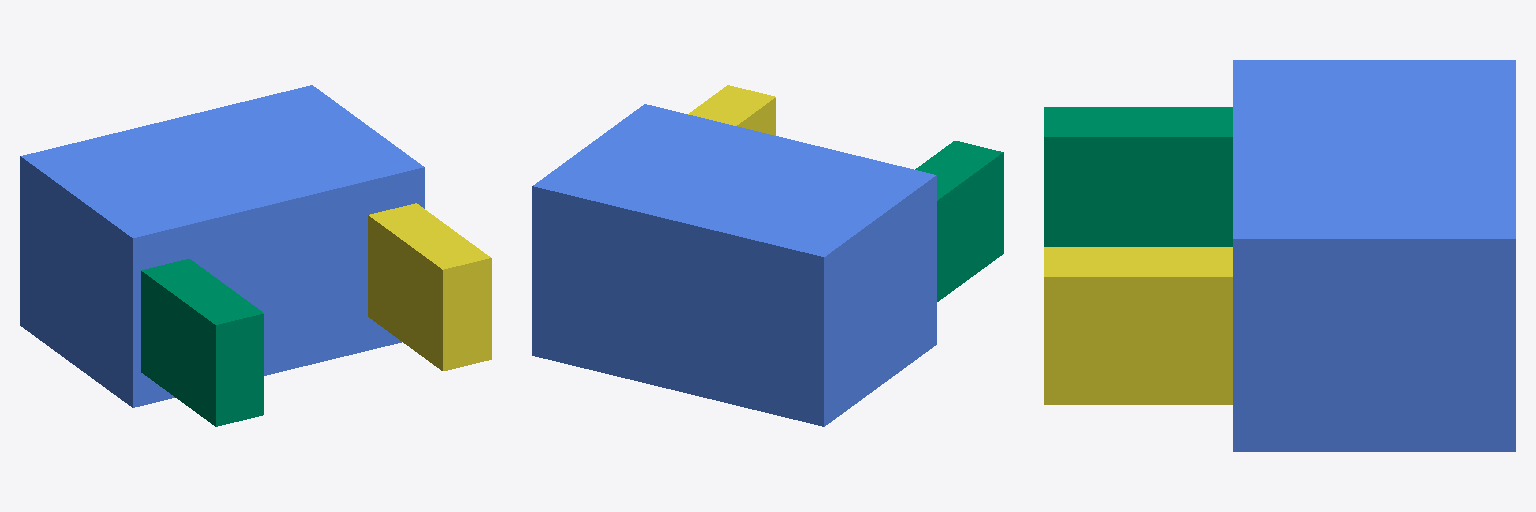
URDF robot description (ur5):
<?xml version="1.0" ?>
<!-- ============================================================================================= -->
<!-- |    This document was autogenerated by xacro from ur_description/urdf/ur5_robot.urdf.xacro | -->
<!-- |    EDITING THIS FILE BY HAND IS NOT RECOMMENDED                                           | -->
<!-- ============================================================================================= -->
<robot name="ur5" xmlns:xacro="http://ros.org/wiki/xacro">
  <material name="LightGrey">
    <color rgba="0.8 0.8 0.8 1.0"/>
  </material>

  <material name="LightBlue">
    <color rgba="0.4 0.6 1 1.0"/>
  </material>

  <material name="DarkGrey">
    <color rgba="0.2 0.2 0.2 1.0"/>
  </material>

  <link name="base_link">
    <visual>
      <geometry>
        <mesh filename="visual/base.dae"/>
      </geometry>
      <!-- <material name="LightGrey"/> -->
    </visual>
    <collision>
      <geometry>
      	<mesh filename="collision/base.stl"/>
      </geometry>
    </collision>
    <inertial>
      <mass value="4.0"/>
      <origin rpy="0 0 0" xyz="0.0 0.0 0.0"/>
      <inertia ixx="0.00443333156" ixy="0.0" ixz="0.0" iyy="0.00443333156" iyz="0.0" izz="0.0072"/>
    </inertial>
  </link>
  <joint name="shoulder_pan_joint" type="revolute">
    <parent link="base_link"/>
    <child link="shoulder_link"/>
    <origin rpy="0.0 0.0 0.0" xyz="0.0 0.0 0.089159"/>
    <axis xyz="0 0 1"/>
    <limit effort="150.0" lower="-6.28318530718" upper="6.28318530718" velocity="3.15"/>
    <dynamics damping="0.0" friction="0.0"/>
  </joint>
  <link name="shoulder_link">
    <visual>
      <geometry>
        <mesh filename="visual/shoulder.dae"/>
      </geometry>
      <!-- <material name="DarkGrey"/> -->
    </visual>
    <collision>
      <geometry>
        <mesh filename="collision/shoulder.stl"/>
      </geometry>
    </collision>
    <inertial>
      <mass value="3.7"/>
      <origin rpy="0 0 0" xyz="0.0 0.0 0.0"/>
      <inertia ixx="0.010267495893" ixy="0.0" ixz="0.0" iyy="0.010267495893" iyz="0.0" izz="0.00666"/>
    </inertial>
  </link>
  <joint name="shoulder_lift_joint" type="revolute">
    <parent link="shoulder_link"/>
    <child link="upper_arm_link"/>
    <origin rpy="0.0 1.57079632679 0.0" xyz="0.0 0.13585 0.0"/>
    <axis xyz="0 1 0"/>
    <limit effort="150.0" lower="-6.28318530718" upper="6.28318530718" velocity="3.15"/>
    <dynamics damping="0.0" friction="0.0"/>
  </joint>
  <link name="upper_arm_link">
    <visual>
      <geometry>
        <mesh filename="visual/upperarm.dae"/>
      </geometry>
      <!-- <material name="LightGrey"/> -->
    </visual>
    <collision>
      <geometry>
        <mesh filename="collision/upperarm.stl"/>
      </geometry>
    </collision>
    <inertial>
      <mass value="8.393"/>
      <origin rpy="0 0 0" xyz="0.0 0.0 0.28"/>
      <inertia ixx="0.22689067591" ixy="0.0" ixz="0.0" iyy="0.22689067591" iyz="0.0" izz="0.0151074"/>
    </inertial>
  </link>
  <joint name="elbow_joint" type="revolute">
    <parent link="upper_arm_link"/>
    <child link="forearm_link"/>
    <origin rpy="0.0 0.0 0.0" xyz="0.0 -0.1197 0.425"/>
    <axis xyz="0 1 0"/>
    <limit effort="150.0" lower="-3.14159265359" upper="3.14159265359" velocity="3.15"/>
    <dynamics damping="0.0" friction="0.0"/>
  </joint>
  <link name="forearm_link">
    <visual>
      <geometry>
        <mesh filename="visual/forearm.dae"/>
      </geometry>
      <!-- <material name="DarkGrey"/> -->
    </visual>
    <collision>
      <geometry>
        <mesh filename="collision/forearm.stl"/>
      </geometry>
    </collision>
    <inertial>
      <mass value="2.275"/>
      <origin rpy="0 0 0" xyz="0.0 0.0 0.25"/>
      <inertia ixx="0.049443313556" ixy="0.0" ixz="0.0" iyy="0.049443313556" iyz="0.0" izz="0.004095"/>
    </inertial>
  </link>
  <joint name="wrist_1_joint" type="revolute">
    <parent link="forearm_link"/>
    <child link="wrist_1_link"/>
    <origin rpy="0.0 1.57079632679 0.0" xyz="0.0 0.0 0.39225"/>
    <axis xyz="0 1 0"/>
    <limit effort="28.0" lower="-6.28318530718" upper="6.28318530718" velocity="3.2"/>
    <dynamics damping="0.0" friction="0.0"/>
  </joint>
  <link name="wrist_1_link">
    <visual>
      <geometry>
        <mesh filename="visual/wrist1.dae"/>
      </geometry>
      <!-- <material name="LightGrey"/> -->
    </visual>
    <collision>
      <geometry>
        <mesh filename="collision/wrist1.stl"/>
      </geometry>
    </collision>
    <inertial>
      <mass value="1.219"/>
      <origin rpy="0 0 0" xyz="0.0 0.0 0.0"/>
      <inertia ixx="0.111172755531" ixy="0.0" ixz="0.0" iyy="0.111172755531" iyz="0.0" izz="0.21942"/>
    </inertial>
  </link>
  <joint name="wrist_2_joint" type="revolute">
    <parent link="wrist_1_link"/>
    <child link="wrist_2_link"/>
    <origin rpy="0.0 0.0 0.0" xyz="0.0 0.093 0.0"/>
    <axis xyz="0 0 1"/>
    <limit effort="28.0" lower="-6.28318530718" upper="6.28318530718" velocity="3.2"/>
    <dynamics damping="0.0" friction="0.0"/>
  </joint>
  <link name="wrist_2_link">
    <visual>
      <geometry>
        <mesh filename="visual/wrist2.dae"/>
      </geometry>
      <!-- <material name="DarkGrey"/> -->
    </visual>
    <collision>
      <geometry>
        <mesh filename="collision/wrist2.stl"/>
      </geometry>
    </collision>
    <inertial>
      <mass value="1.219"/>
      <origin rpy="0 0 0" xyz="0.0 0.0 0.0"/>
      <inertia ixx="0.111172755531" ixy="0.0" ixz="0.0" iyy="0.111172755531" iyz="0.0" izz="0.21942"/>
    </inertial>
  </link>
  <joint name="wrist_3_joint" type="revolute">
    <parent link="wrist_2_link"/>
    <child link="wrist_3_link"/>
    <origin rpy="0.0 0.0 0.0" xyz="0.0 0.0 0.09465"/>
    <axis xyz="0 1 0"/>
    <limit effort="28.0" lower="-6.28318530718" upper="6.28318530718" velocity="3.2"/>
    <dynamics damping="0.0" friction="0.0"/>
  </joint>
  <link name="wrist_3_link">
    <visual>
      <geometry>
        <mesh filename="visual/wrist3.dae"/>
      </geometry>
      <!-- <material name="LightGrey"/> -->
    </visual>
    <collision>
      <geometry>
        <mesh filename="collision/wrist3.stl"/>
      </geometry>
    </collision>
    <inertial>
      <mass value="0.1879"/>
      <origin rpy="0 0 0" xyz="0.0 0.0 0.0"/>
      <inertia ixx="0.0171364731454" ixy="0.0" ixz="0.0" iyy="0.0171364731454" iyz="0.0" izz="0.033822"/>
    </inertial>
  </link>


  <!-- nothing to do here at the moment -->
  <!-- ROS base_link to UR 'Base' Coordinates transform -->
  <link name="base">
    <inertial>
      <mass value="0.0"/>
      <origin rpy="0 0 0" xyz="0.0 0.0 0.0"/>
      <inertia ixx="0.0" ixy="0.0" ixz="0.0" iyy="0.0" iyz="0.0" izz="0.0"/>
    </inertial>
  </link>
  <joint name="base_link-base_fixed_joint" type="fixed">
    <!-- NOTE: this rotation is only needed as long as base_link itself is
                 not corrected wrt the real robot (ie: rotated over 180
                 degrees)
      -->
    <origin rpy="0 0 -3.14159265359" xyz="0 0 0"/>
    <parent link="base_link"/>
    <child link="base"/>
  </joint>
  <!-- Frame coincident with all-zeros TCP on UR controller -->
  <link name="tool0">
    <inertial>
      <mass value="0.0"/>
      <origin rpy="0 0 0" xyz="0.0 0.0 0.0"/>
      <inertia ixx="0.0" ixy="0.0" ixz="0.0" iyy="0.0" iyz="0.0" izz="0.0"/>
    </inertial>
  </link>
  <joint name="wrist_3_link-tool0_fixed_joint" type="fixed">
    <origin rpy="-1.57079632679 0 0" xyz="0 0.0823 0"/>
    <parent link="wrist_3_link"/>
    <child link="tool0"/>
  </joint>

  <!-- gripper -->
  
  
  <link name="gripper_base">
    <inertial>
      <mass value="0.1879"/>
      <origin rpy="0 0 0" xyz="0.0 0.0 0.0"/>
      <inertia ixx="0.0" ixy="0.0" ixz="0.0" iyy="0.0" iyz="0.0" izz="0.0"/>
    </inertial>
    <visual>
      <geometry>
        <box size="0.09 0.05 0.06"/>
      </geometry>
      <origin rpy="0 0 0" xyz="0 0 0"/>
      <material name="LightBlue"/>
    </visual>
    <collision>
      <geometry>
        <box size="0.09 0.05 0.06"/>
      </geometry>
      <origin rpy="0 0 0" xyz="0 0 0"/>
    </collision>
  </link>
  <joint name="tool0-gb" type="fixed">
    <origin rpy="0 0 3.14159265359" xyz="0 0 0.03"/>
    <parent link="tool0"/>
    <child link="gripper_base"/>
  </joint>
  
  <link name="gripper_left">
    <inertial>
      <mass value="0.06"/>
      <origin rpy="0 0 0" xyz="0 0 0"/>
      <inertia ixx="0.0" ixy="0.0" ixz="0.0" iyy="0.0" iyz="0.0" izz="0.0"/>
    </inertial>
    <visual>
      <geometry>
        <box size="0.015 0.03 0.04"/>
      </geometry>
      <origin rpy="0 0 0" xyz="0 0 0"/>
      <!-- <material name="LightGray"/> -->
    </visual>
    <collision>
      <geometry>
        <box size="0.015 0.03 0.04"/>
      </geometry>
      <origin rpy="0 0 0" xyz="0 0 0"/>
    </collision>
  </link>
  <joint name="gb-gl" type="prismatic">
    <origin rpy="0 0 0" xyz="0.035 0.0 0.05"/>
    <axis xyz="-1 0 0"/>
    <limit effort="50.0" lower="0" upper="0.0275" velocity="0.01"/>
    <parent link="gripper_base"/>
    <child link="gripper_left"/>
  </joint>
  
  <link name="gripper_right">
    <inertial>
      <mass value="0.06"/>
      <origin rpy="0 0 0" xyz="0. 0.0 0.0"/>
      <inertia ixx="0.0" ixy="0.0" ixz="0.0" iyy="0.0" iyz="0.0" izz="0.0"/>
    </inertial>
    <visual>
      <geometry>
        <box size="0.015 0.03 0.04"/>
      </geometry>
      <origin rpy="0 0 0" xyz="0 0 0"/>
      <!-- <material name="LightGray"/> -->
    </visual>
    <collision>
      <geometry>
        <box size="0.015 0.03 0.04"/>
      </geometry>
      <origin rpy="0 0 0" xyz="0 0 0"/>
    </collision>
  </link>
  <joint name="gb-gr" type="prismatic">
    <origin rpy="0 0 0" xyz="-0.035 0.0 0.05"/>
    <limit effort="50.0" lower="0" upper="0.0275" velocity="0.01"/>
    <axis xyz="1 0 0"/>
    <parent link="gripper_base"/>
    <child link="gripper_right"/>
  </joint>
  
  
  <link name="gripper_center">
    <inertial>
      <mass value="0.0"/>
      <origin rpy="0 0 0" xyz="0. 0.0 0.0"/>
      <inertia ixx="0.0" ixy="0.0" ixz="0.0" iyy="0.0" iyz="0.0" izz="0.0"/>
    </inertial>
  </link>
  <joint name="gb-gc" type="fixed">
    <origin rpy="0 0 0" xyz="0 0.0 0.06"/>
    <parent link="gripper_base"/>
    <child link="gripper_center"/>
  </joint>
  
  
  
  

  <link name="world"/>
  <joint name="world_joint" type="fixed">
    <parent link="world"/>
    <child link="rotated_base_link"/>
    <origin rpy="0.0 0.0 0.0" xyz="0.0 0.0 0.0"/>
  </joint>

  <link name="rotated_base_link">
    <inertial>
      <mass value="0.0"/>
      <origin rpy="0 0 0" xyz="0.0 0.0 0.0"/>
      <inertia ixx="0.0" ixy="0.0" ixz="0.0" iyy="0.0" iyz="0.0" izz="0.0"/>
    </inertial>
  </link>>

  <joint name="rotated_base-base_fixed_joint" type="fixed">
    <origin xyz="0.0 0.0 0.0" rpy="0.0 0.0 3.141592653589793"/>
    <parent link="rotated_base_link"/>
    <child link="base_link"/>
  </joint>
</robot>

--- What the picture shows (computed from the rendered views, not written in the file) ---
3 views of the same robot in one strip: view 1: azimuth 30°, elevation 25°; view 2: azimuth 150°, elevation 25°; view 3: azimuth 270°, elevation 25° (orthographic).
Robot: ur5 — 15 links, 14 joints (6 revolute, 2 prismatic, 6 fixed); root link world; default pose: all joints at 0.
Links seen in each view (by area): view 1: gripper_base, gripper_right, gripper_left; view 2: gripper_base, gripper_left, gripper_right; view 3: gripper_base, gripper_right, gripper_left.
Link boxes in pixels (box(x1,y1,x2,y2)): gripper_base: box(20, 85, 424, 407); gripper_right: box(368, 203, 491, 370); gripper_left: box(141, 259, 263, 426); gripper_base: box(532, 104, 936, 426); gripper_left: box(915, 141, 1003, 301); gripper_right: box(688, 85, 775, 135); gripper_base: box(1233, 60, 1515, 451); gripper_right: box(1044, 247, 1232, 404); gripper_left: box(1044, 107, 1232, 246).
Bounding box of the posed robot: 0.09 × 0.1 × 0.05 m (x, y, z).
0 mesh visuals loaded from 7 distinct referenced files (none loaded); not drawn: 7 (reference not matched to a file when rendering).